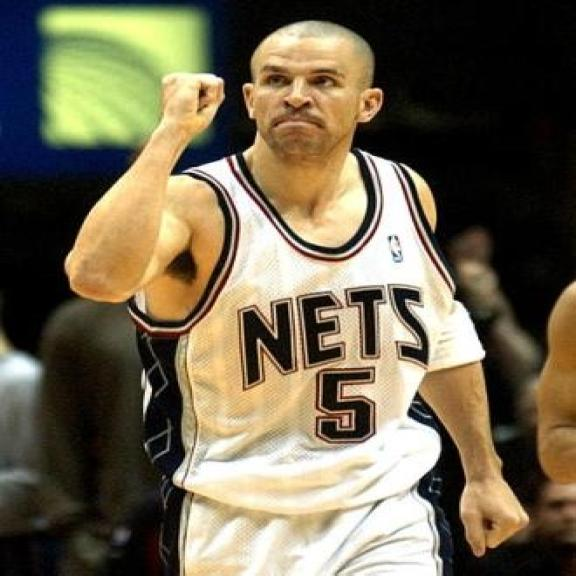face: (243, 40, 390, 166)
